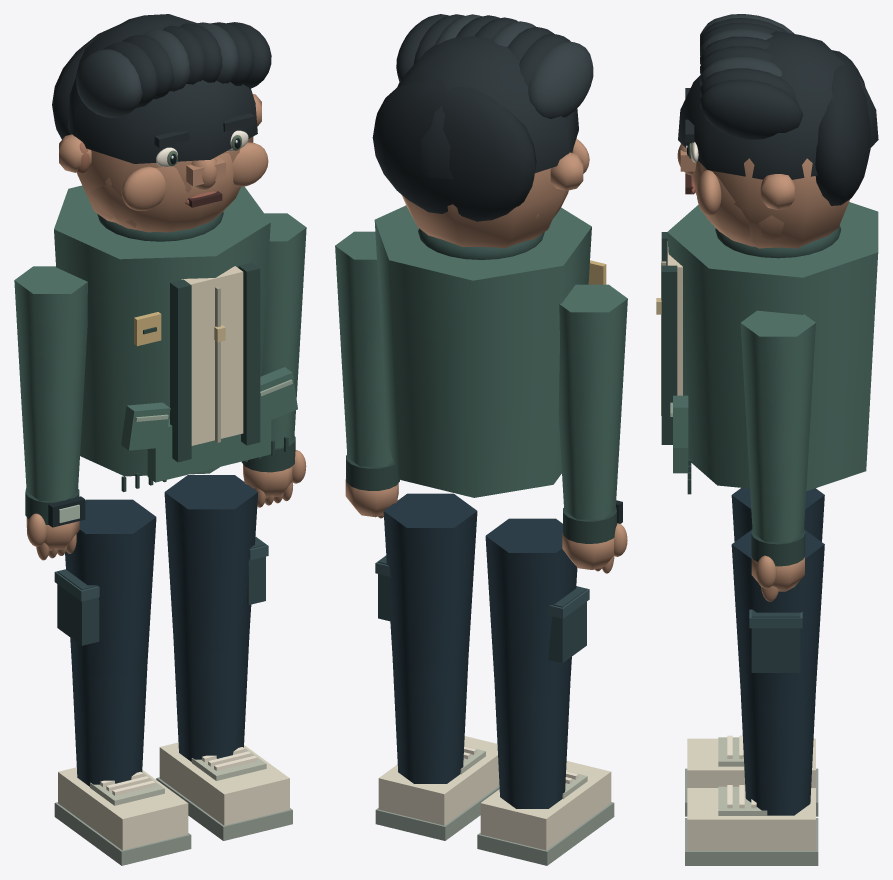
File: atlas.glb
The picture shows the model from 3 angles, left to right: view 1: azimuth 30°, elevation 25°; view 2: azimuth 150°, elevation 25°; view 3: azimuth 270°, elevation 25°; orthographic projection.
Parts seen in each view (by area): view 1: Atlas — original detailed character, object 4, object 36, object 65, object 58, object 66, object 59, object 37, object 47, object 11, object 17, object 3 (+22 smaller); view 2: Atlas — original detailed character, object 26, object 4, object 36, object 65, object 58, object 47, object 59, object 37, object 3, object 66, object 48 (+12 smaller); view 3: Atlas — original detailed character, object 4, object 47, object 65, object 26, object 66, object 3, object 48, object 25, object 59, object 67, object 11 (+14 smaller).
Part boxes in pixels (bbox=[...]): Atlas — original detailed character: bbox=[54, 185, 297, 676]; object 4: bbox=[67, 14, 257, 163]; object 36: bbox=[14, 266, 87, 408]; object 65: bbox=[173, 638, 249, 761]; object 58: bbox=[71, 662, 147, 786]; object 66: bbox=[159, 742, 289, 825]; object 59: bbox=[58, 767, 188, 850]; object 37: bbox=[21, 397, 83, 500]; object 47: bbox=[263, 213, 306, 355]; object 11: bbox=[90, 152, 240, 232]; object 17: bbox=[76, 49, 142, 117]; object 3: bbox=[77, 137, 253, 230]; Atlas — original detailed character: bbox=[374, 205, 606, 695]; object 26: bbox=[372, 78, 536, 221]; object 4: bbox=[397, 35, 578, 179]; object 36: bbox=[558, 284, 627, 427]; object 65: bbox=[392, 657, 468, 783]; object 58: bbox=[494, 682, 570, 808]; object 47: bbox=[335, 231, 383, 374]; object 59: bbox=[480, 761, 611, 850]; object 37: bbox=[558, 416, 621, 519]; object 3: bbox=[402, 149, 573, 248]; object 66: bbox=[378, 736, 499, 825]; object 48: bbox=[341, 363, 393, 466]; Atlas — original detailed character: bbox=[656, 202, 878, 702]; object 4: bbox=[678, 31, 878, 179]; object 47: bbox=[740, 310, 815, 450]; object 65: bbox=[740, 689, 815, 815]; object 26: bbox=[815, 50, 870, 205]; object 66: bbox=[687, 788, 815, 850]; object 3: bbox=[701, 158, 850, 248]; object 48: bbox=[747, 440, 809, 542]; object 25: bbox=[700, 79, 803, 139]; object 59: bbox=[687, 738, 815, 787]; object 67: bbox=[685, 818, 818, 865]; object 11: bbox=[691, 161, 784, 247].
Size of the model in its own units: 0.716 by 1.96 by 0.5005.
